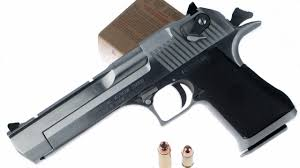gun: (6, 5, 300, 160)
